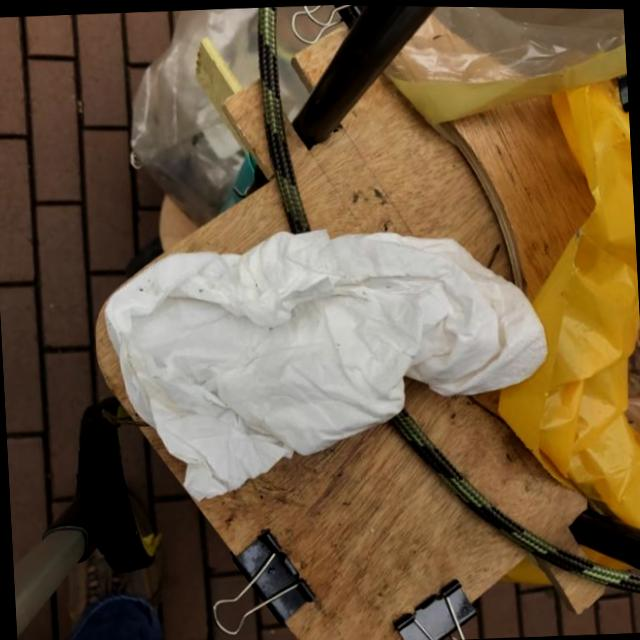Paper: (95, 206, 556, 512)
